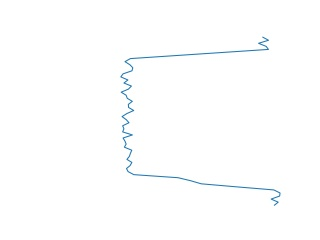distributaryChannelFill: (116, 36, 285, 206)
